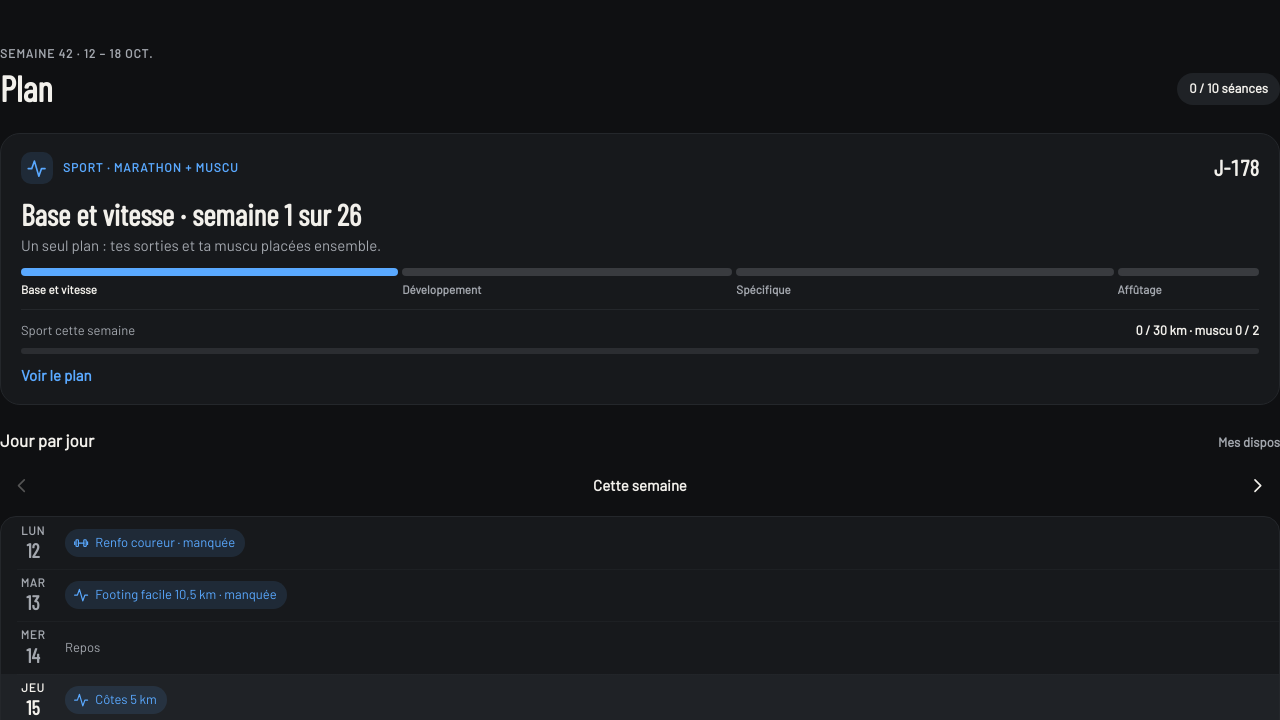
Test case: plan : semaine d’après, et « Mes dispos » marque un jour indisponible
The width and height of the screenshot is (1280, 720).
Click the button "Mes dispos": [1249, 443] box [1218,434,1279,452]
(page scrolled)
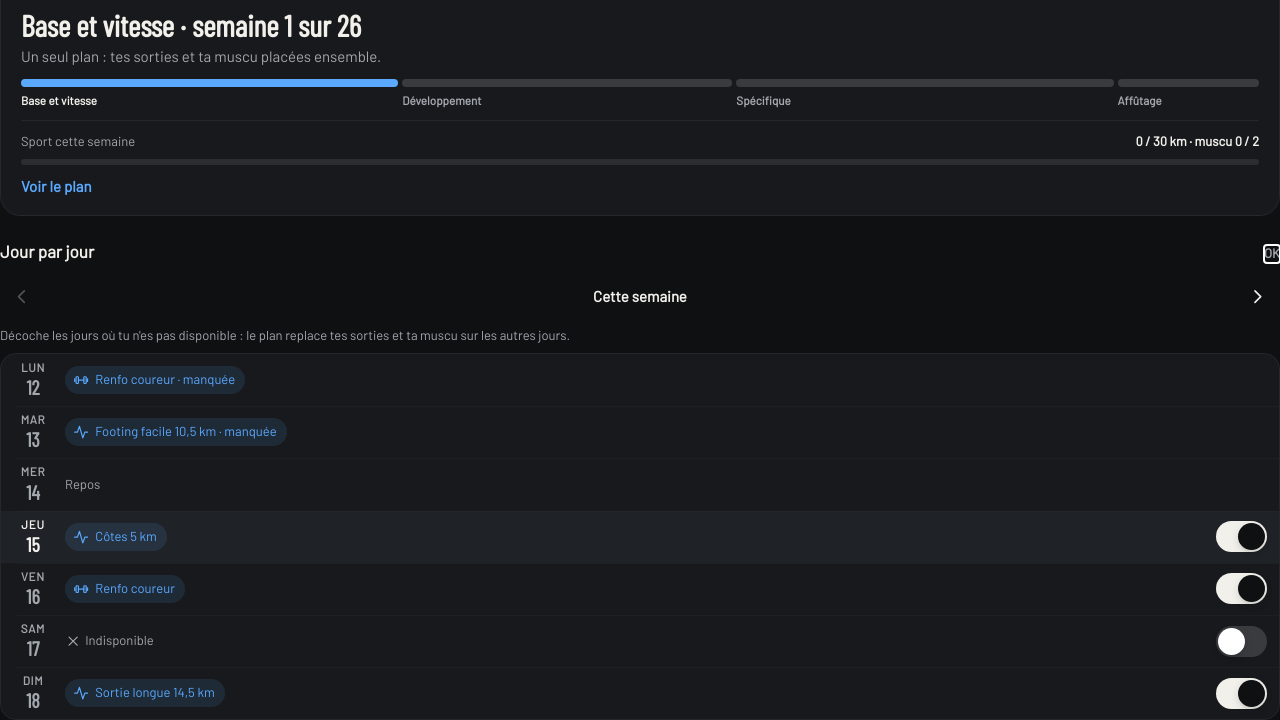
Click the switch named "Disponible le ven. 16 oct.": [1242, 589] box [1216,573,1267,604]
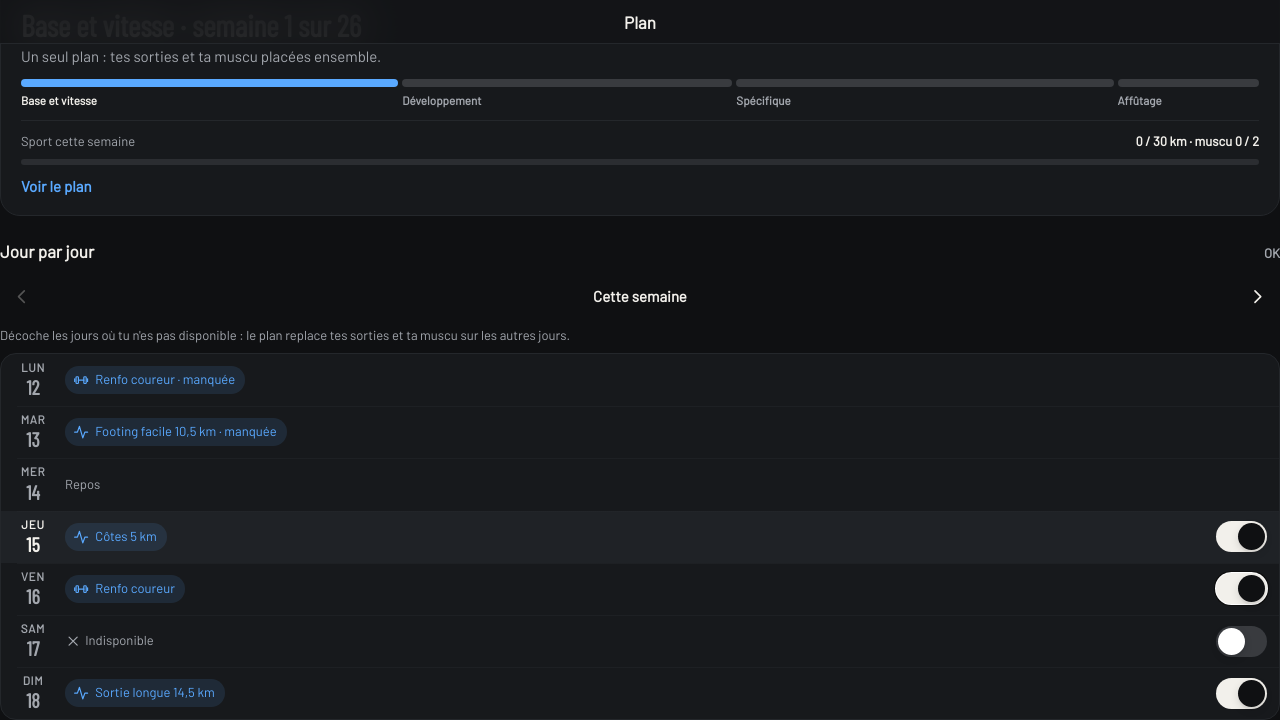
Click the button named "Semaine d'après": [1258, 297] box [1236,275,1279,319]
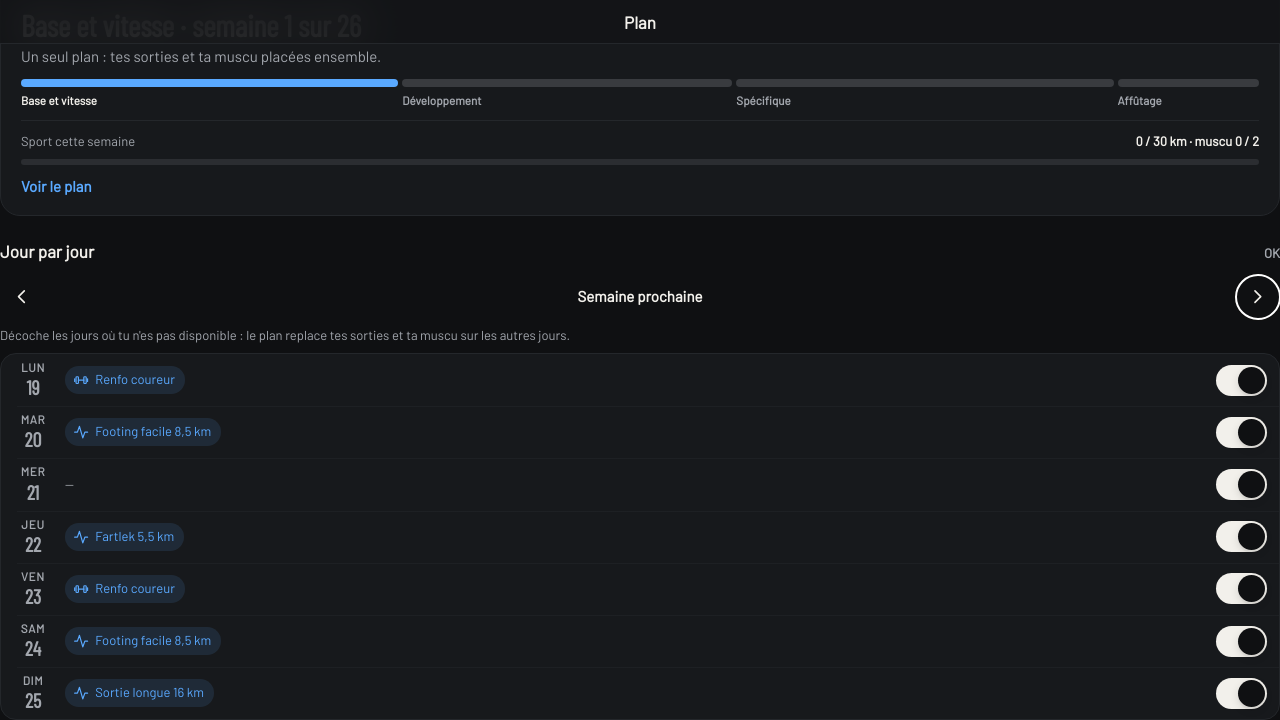
Result: the text "Semaine prochaine" is shown at [578,287,702,307]
